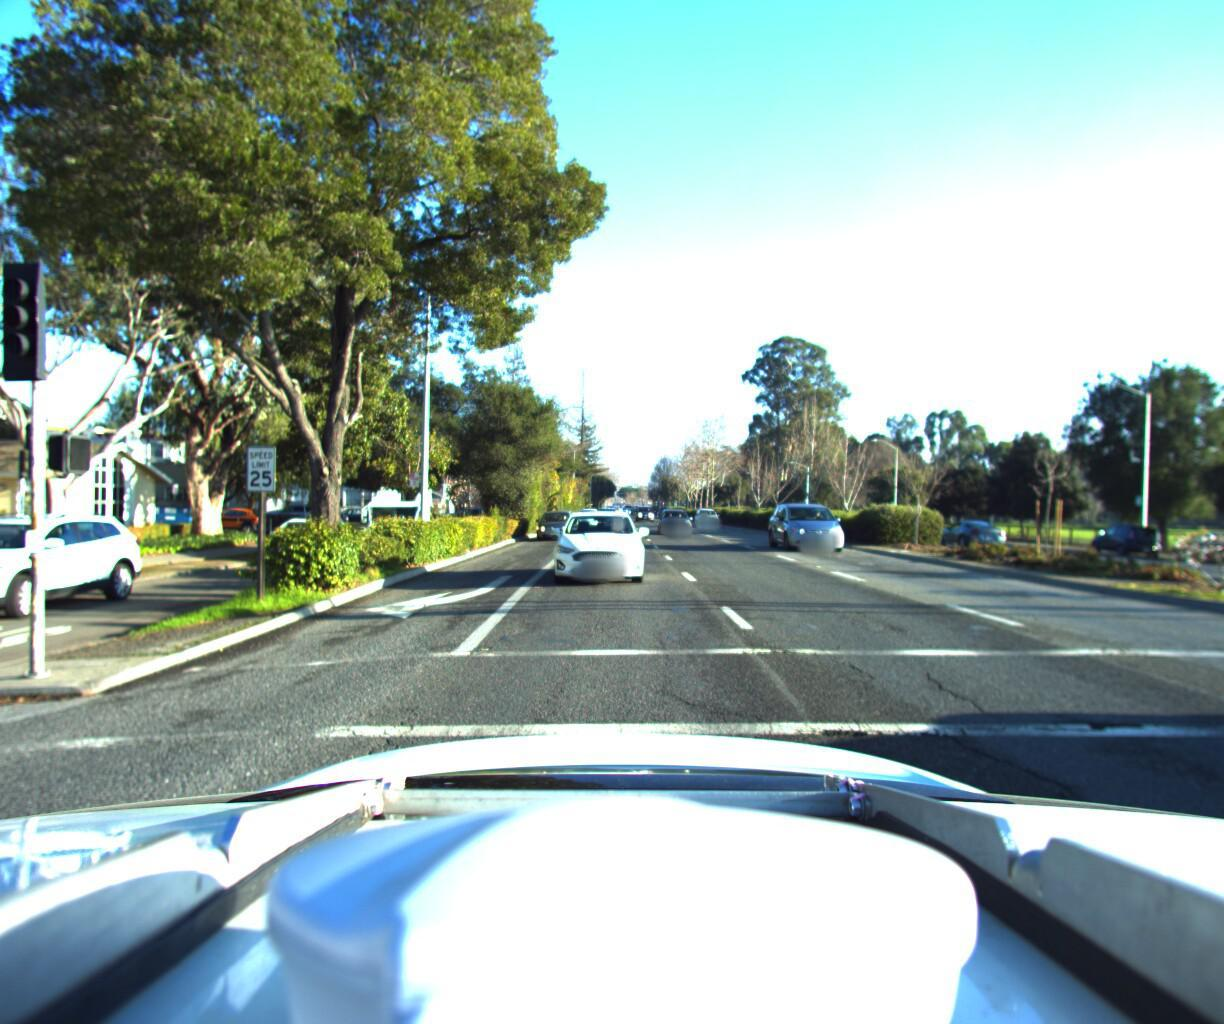car: (0, 504, 157, 631), (549, 502, 648, 583), (250, 510, 353, 563), (772, 495, 861, 550), (1080, 516, 1165, 553), (190, 501, 272, 534), (1163, 520, 1224, 562), (920, 508, 992, 540), (528, 497, 575, 533), (289, 502, 350, 524), (657, 500, 694, 529), (321, 500, 378, 518), (695, 499, 723, 520), (634, 497, 654, 513)
truck: (363, 496, 433, 552)
